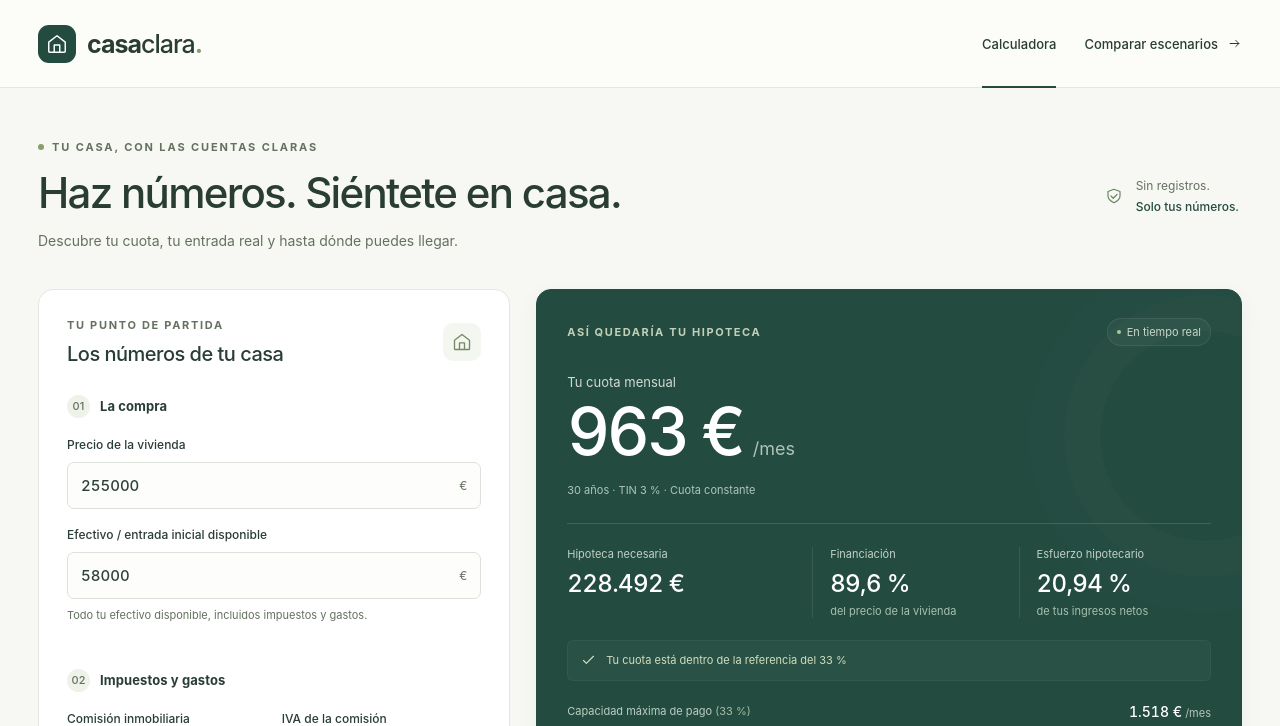
Test: calculadora interactiva › muestra la entrada real y recalcula al cambiar el efectivo
The image size is (1280, 726).
Expected: the text with test id "mortgage" shows "228.492", x1=567 y1=568 x2=684 y2=598
Expected: the text "Escenario de estrés al 4 % TIN" is not shown
Replace the text in the field labelled "Efectivo / entrada inicial disponible" with "50000" at (274, 575), box x1=67 y1=552 x2=481 y2=599
(page scrolled)
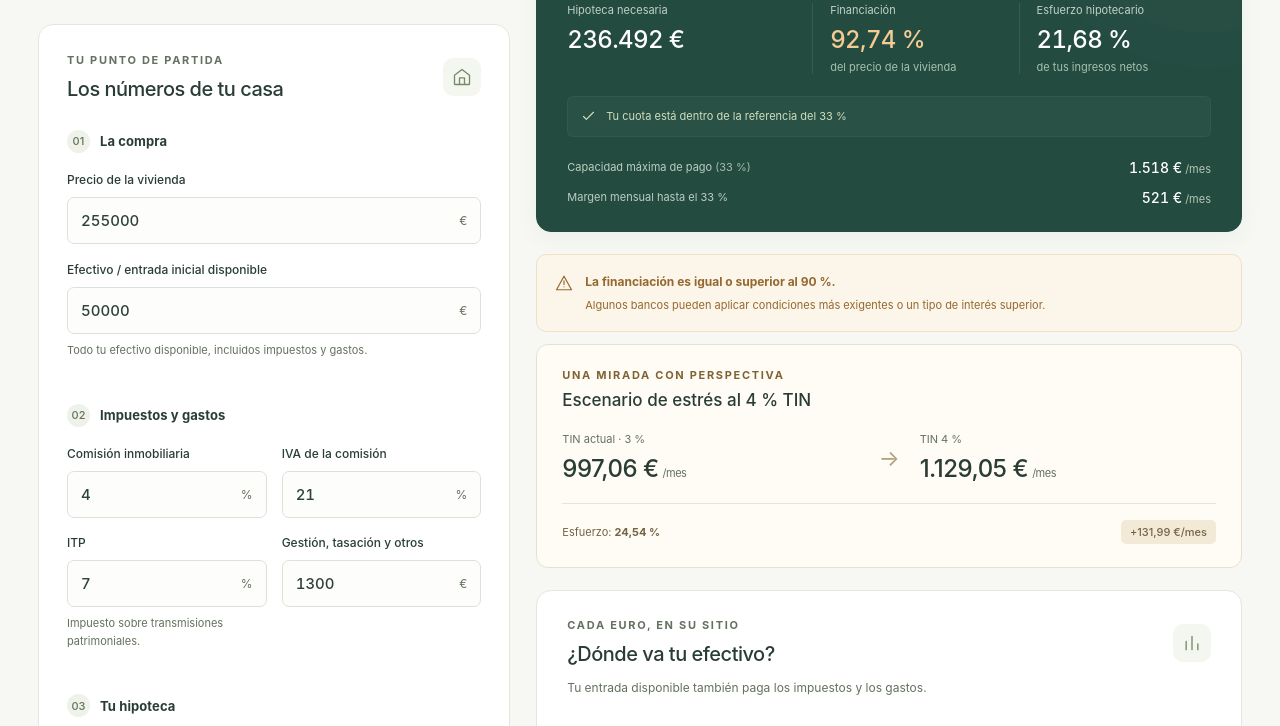
Expected: the heading "Escenario de estrés al 4 % TIN" is shown, x1=562 y1=390 x2=811 y2=410
